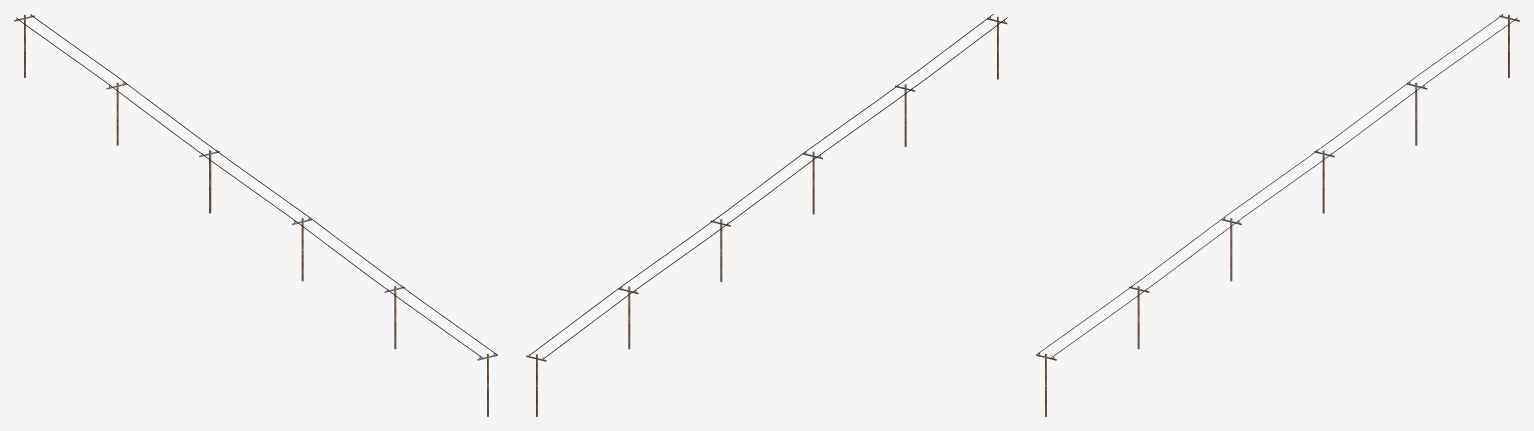
Rendered from Poste+Cables_2.fbx.
3 renders of one model, left to right at view 1: azimuth 30°, elevation 25°; view 2: azimuth 150°, elevation 25°; view 3: azimuth 330°, elevation 25°, orthographic.
Visible parts, largest first — view 1: Poste+Cable; view 2: Poste+Cable; view 3: Poste+Cable.
Part boxes in pixels (bbox=[...]): Poste+Cable: bbox=[14, 14, 497, 416]; Poste+Cable: bbox=[526, 14, 1007, 416]; Poste+Cable: bbox=[1036, 14, 1519, 416].
Size of the model in its own units: 2.27 by 90.73 by 6.73.
2 materials, 1 textured.
